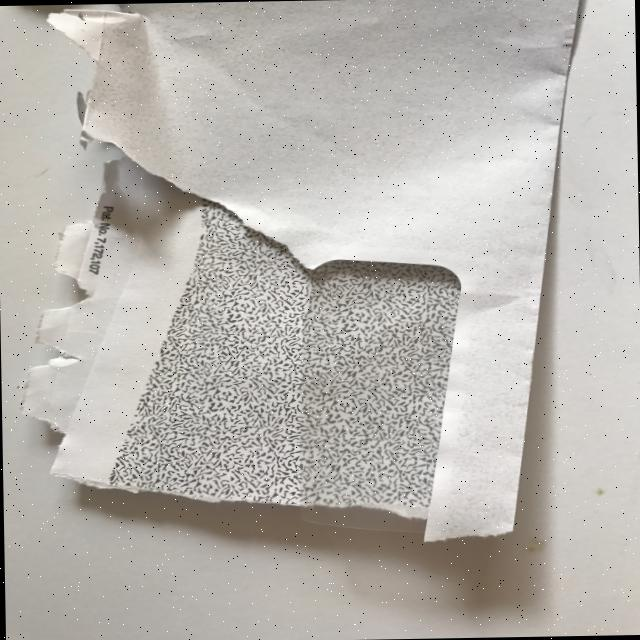paper: (19, 0, 590, 549)
